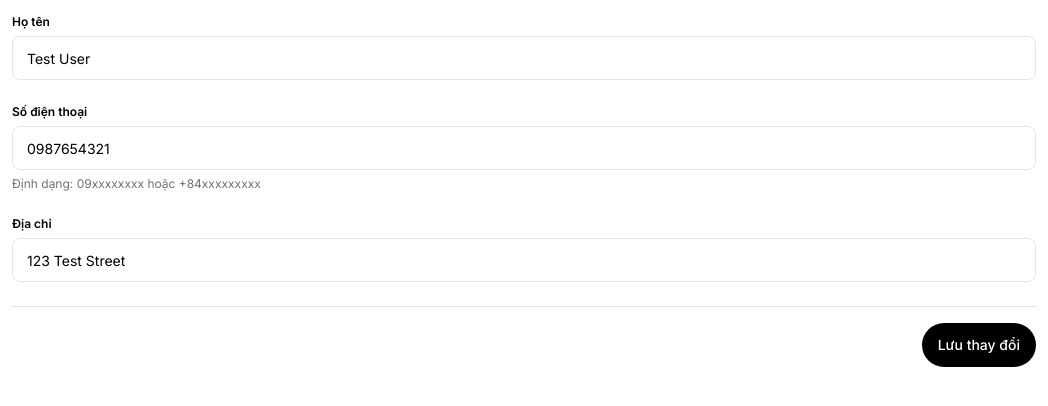
it: ProfileForm › shows validation error for invalid phone format
Replace the text in the field labelled "Số điện thoại" with "123" at (524, 148), box [12,126,1036,170]
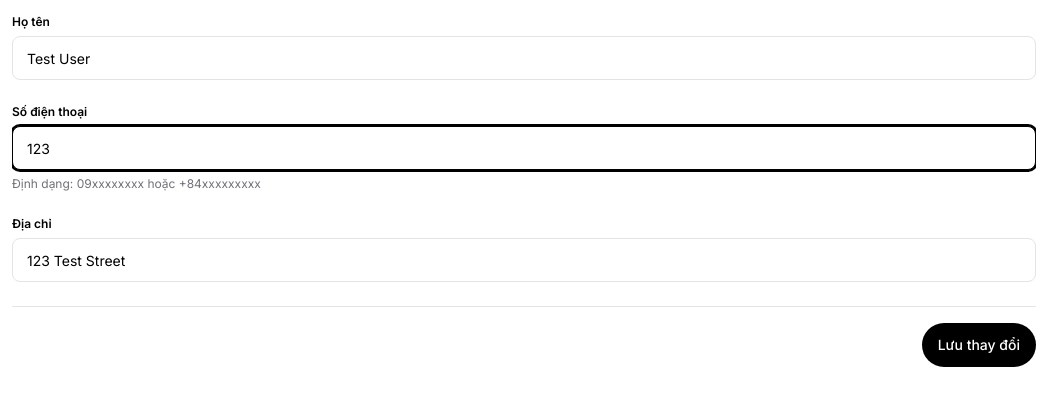
Press Tab
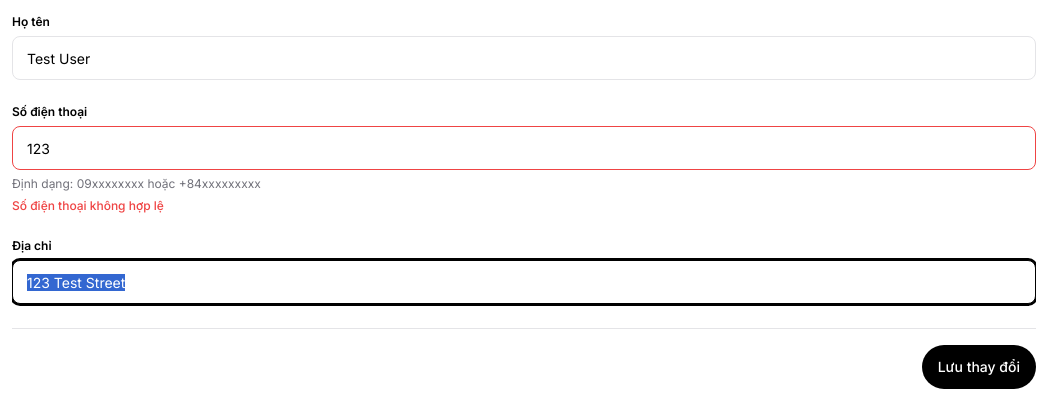
Expected: the text "Số điện thoại không hợp lệ" is shown, [12,198,164,213]
